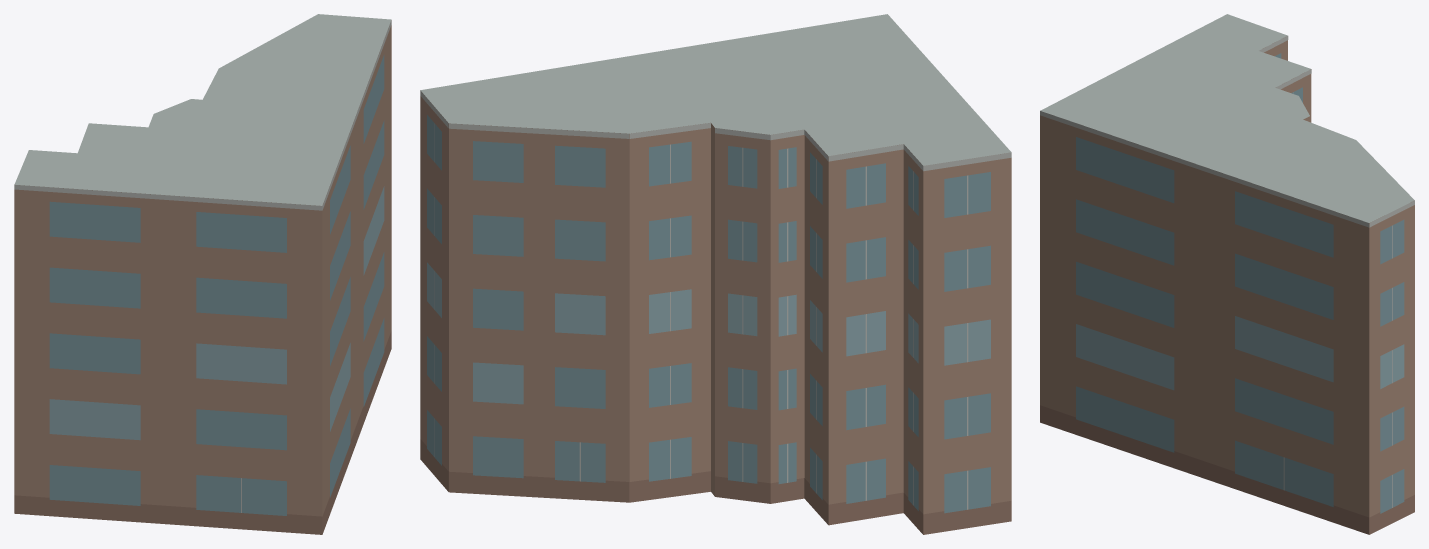
Rendered from survey-upis-32992967.glb.
The picture shows the model from 3 angles, left to right: view 1: azimuth 30°, elevation 25°; view 2: azimuth 150°, elevation 25°; view 3: azimuth 270°, elevation 25°; orthographic projection. The views are drawn at different scales.
Parts seen in each view (by area): view 1: survey-upis-32992967.tmp; view 2: survey-upis-32992967.tmp; view 3: survey-upis-32992967.tmp.
Boxes of the visible parts, left/top/right/bottom form: survey-upis-32992967.tmp: left=14, top=14, right=391, bottom=534; survey-upis-32992967.tmp: left=420, top=14, right=1011, bottom=534; survey-upis-32992967.tmp: left=1040, top=14, right=1414, bottom=534.
Size of the model in its own units: 24.18 by 16.8 by 18.31.
